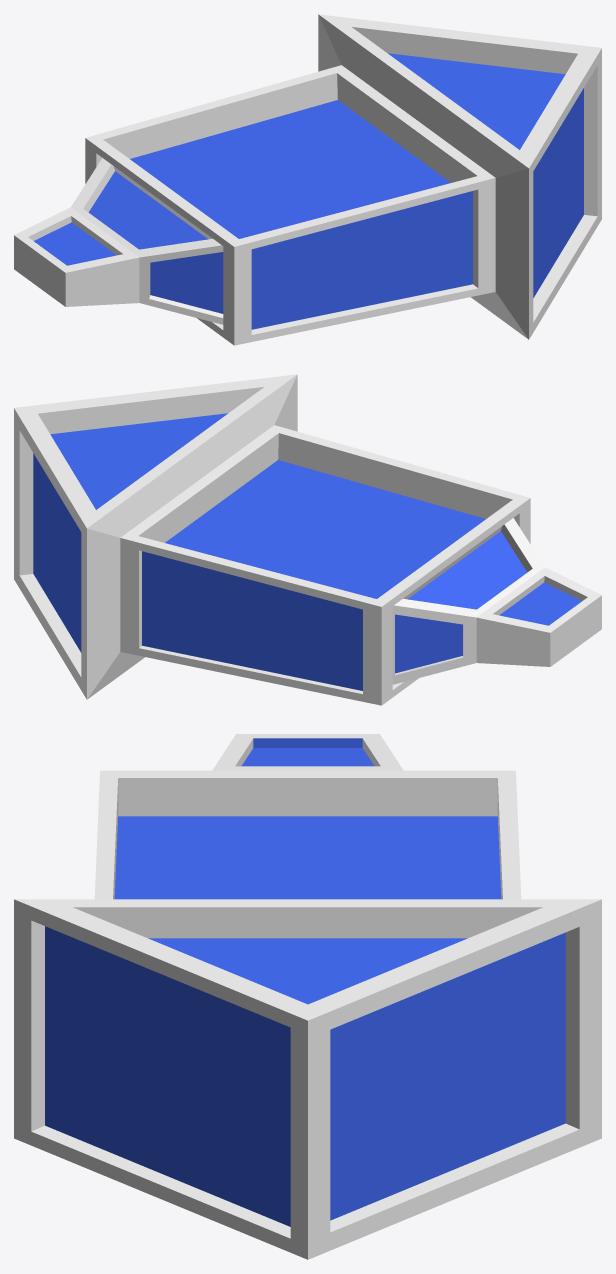
Rendered from Arrow.fbx.
3 views of the same model, one above another, from view 1: azimuth 30°, elevation 25°; view 2: azimuth 150°, elevation 25°; view 3: azimuth 270°, elevation 25° (orthographic). The views are drawn at different scales.
Parts seen in each view (by area): view 1: Cube; view 2: Cube; view 3: Cube.
Part boxes in pixels (x1,y1,x2,y2): Cube: (14, 14, 601, 345); Cube: (14, 374, 601, 705); Cube: (14, 734, 601, 1259).
Size of the model in its own units: 436 by 127 by 283.
